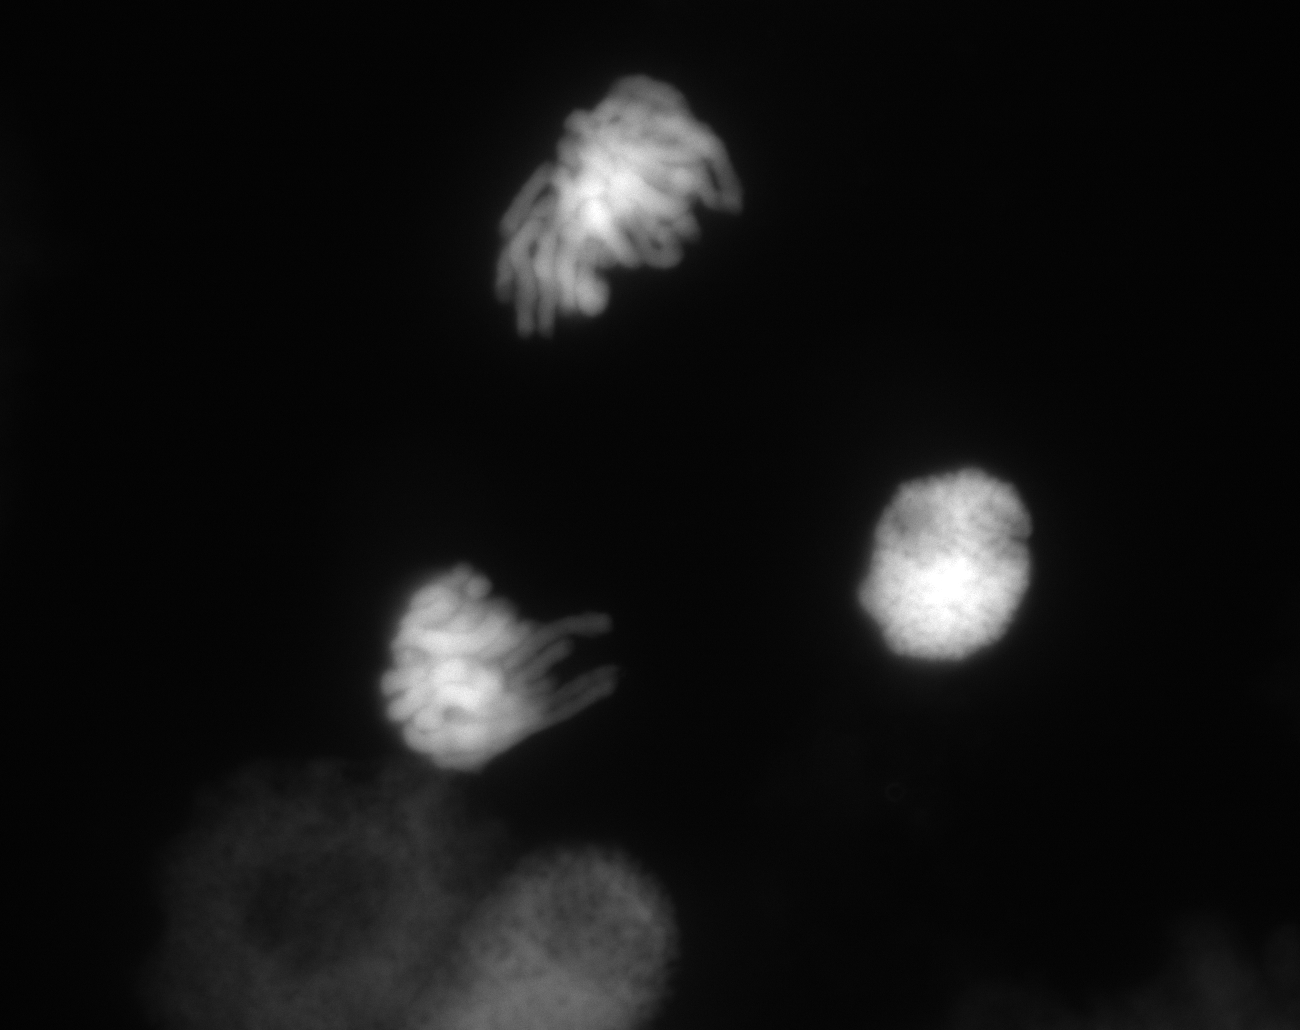Chromosomes: (404, 1, 849, 718), (444, 25, 787, 373), (291, 514, 665, 801)
Others: (95, 743, 618, 1030), (317, 791, 728, 1030), (825, 439, 1059, 711)
